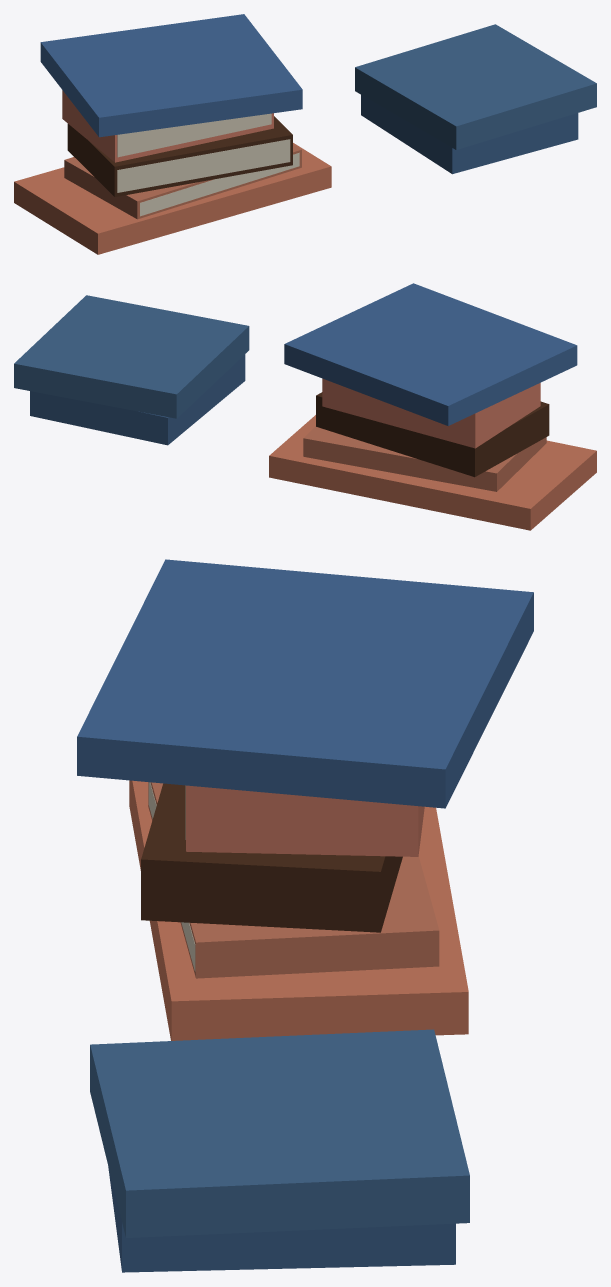
Rendered from book-stack-04.glb.
3 views of the same model, one above another, from view 1: azimuth 30°, elevation 25°; view 2: azimuth 150°, elevation 25°; view 3: azimuth 270°, elevation 25° (orthographic). The views are drawn at different scales.
Visible parts, largest first — view 1: book_stack_04; view 2: book_stack_04; view 3: book_stack_04.
Boxes of the visible parts, box(x1,y1,x2,y2) form: book_stack_04: box(14, 14, 596, 254); book_stack_04: box(14, 283, 596, 530); book_stack_04: box(77, 559, 533, 1272).
Size of the model in its own units: 0.6135 by 0.1478 by 0.2389.
